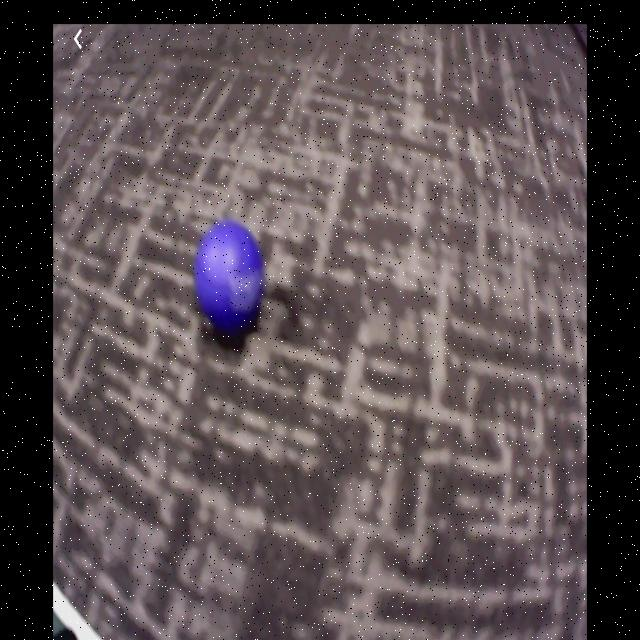ball: (195, 224, 264, 326)
